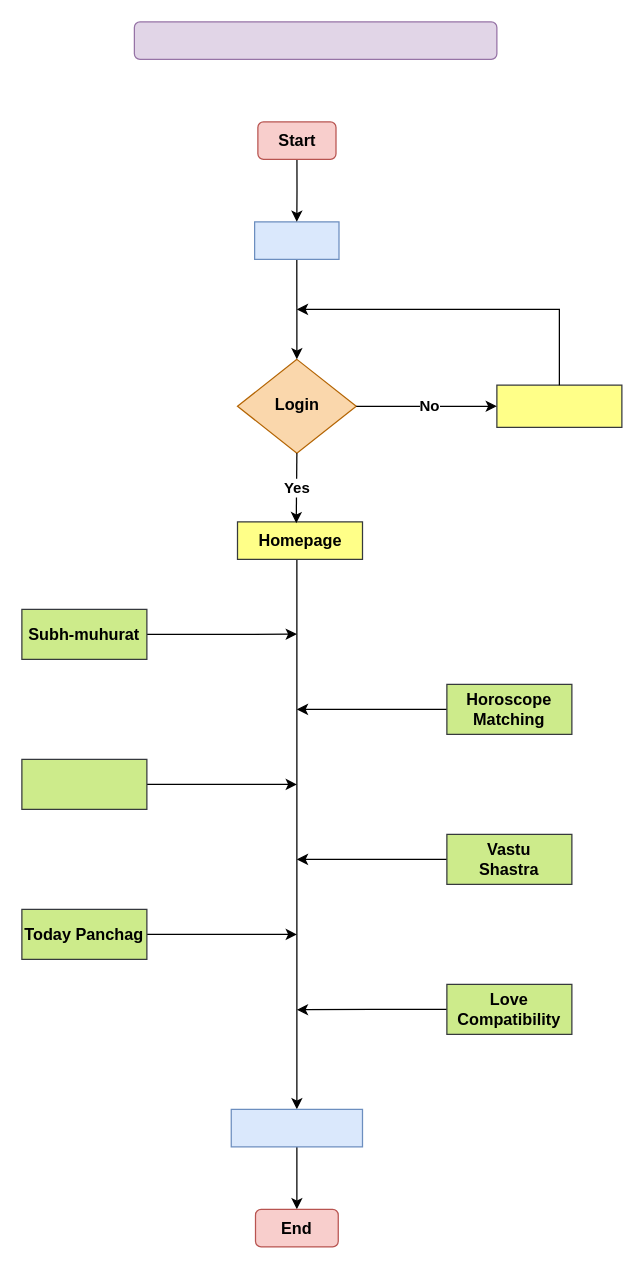
Some shapes in this 644 by 1269 pixel diagram are drawn without their labels. Each missing label, with the centre of its shape:
"Festival Calendar" goes at [84,783].
"KnowFuture" goes at [315,40].
"Logout" goes at [296,1127].
"Registration" goes at [559,405].
"User" goes at [296,240].
